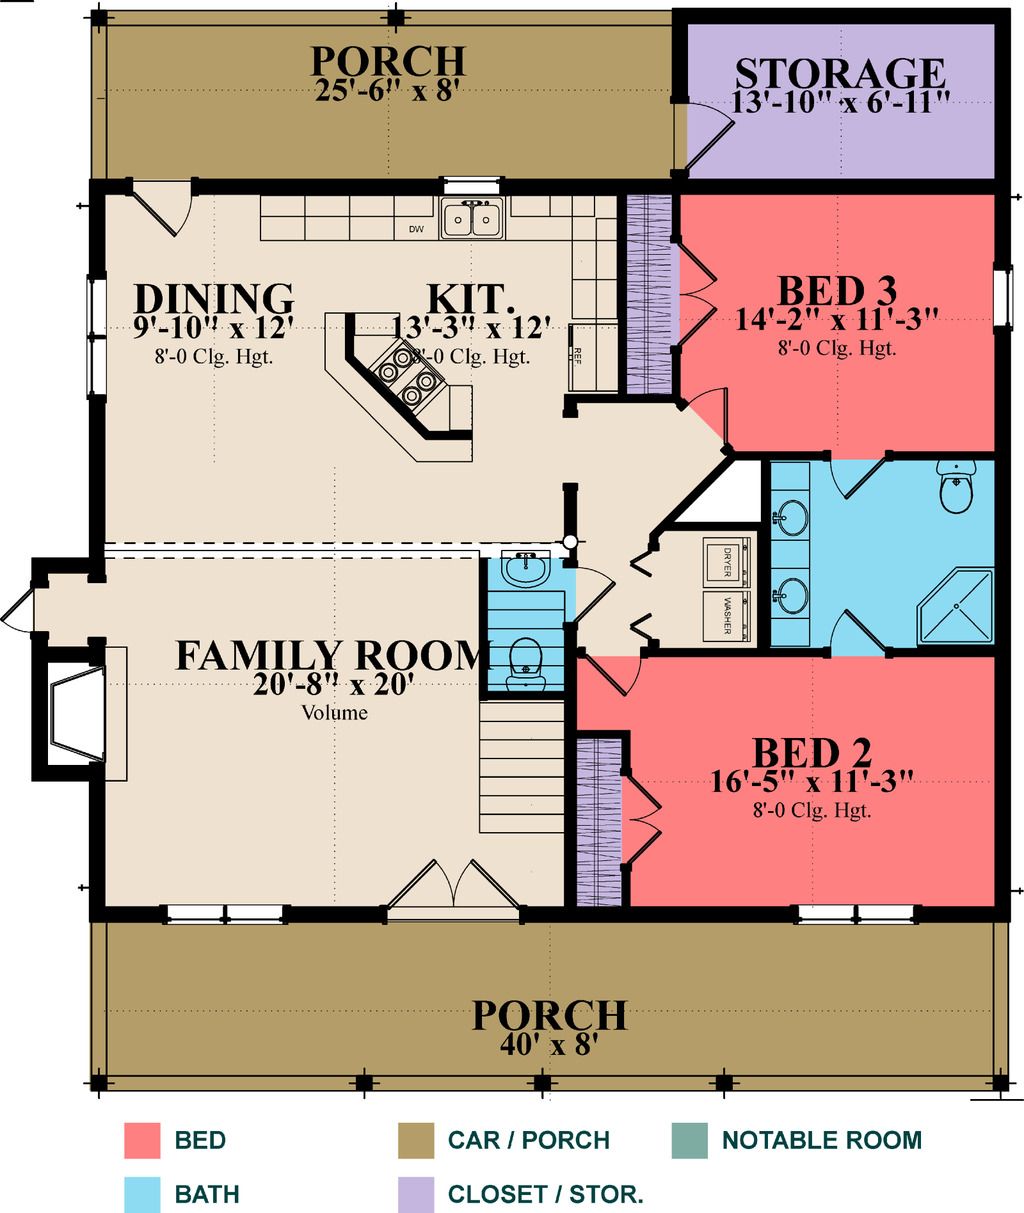door: (379, 856, 529, 923), (666, 232, 724, 348), (124, 172, 209, 247), (666, 95, 735, 168), (621, 771, 667, 873), (815, 443, 889, 507), (569, 642, 646, 700), (681, 381, 744, 450), (817, 603, 892, 660), (564, 558, 614, 623), (1, 583, 52, 640)
kitchen_bar: (312, 305, 479, 465)
large_sink: (482, 637, 571, 700), (932, 460, 979, 521)
small_sink: (766, 455, 811, 651), (489, 536, 562, 597)
stairs: (460, 535, 581, 832)
twin_sink: (425, 186, 520, 241)
window: (790, 890, 939, 931), (79, 275, 121, 397), (145, 897, 289, 932), (982, 257, 1024, 334)
